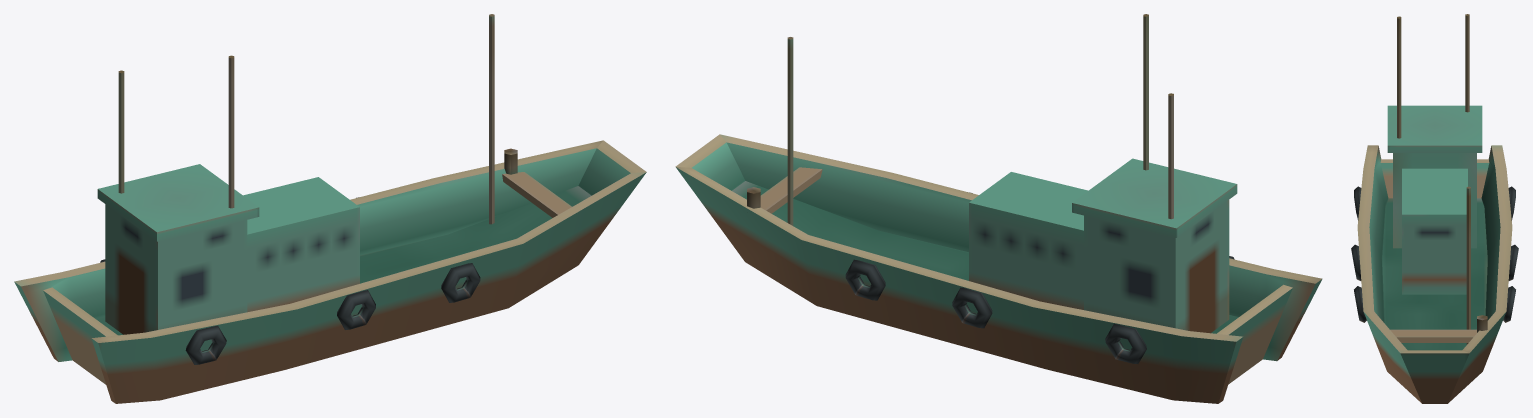
The model's file is Coach_Building_Hooker_L2_03_Mod.fbx.
3 renders of one model, left to right at view 1: azimuth 30°, elevation 25°; view 2: azimuth 150°, elevation 25°; view 3: azimuth 270°, elevation 25°, orthographic. The views are drawn at different scales.
Parts seen in each view (by area): view 1: Coach_Building_Hooker_L2_03_Mod; view 2: Coach_Building_Hooker_L2_03_Mod; view 3: Coach_Building_Hooker_L2_03_Mod.
Boxes of the visible parts, <box> form: Coach_Building_Hooker_L2_03_Mod: <box>14,14,646,403</box>; Coach_Building_Hooker_L2_03_Mod: <box>675,14,1322,403</box>; Coach_Building_Hooker_L2_03_Mod: <box>1351,14,1518,403</box>.
Bounding box in the file's own units: 1119 × 592 × 358.
